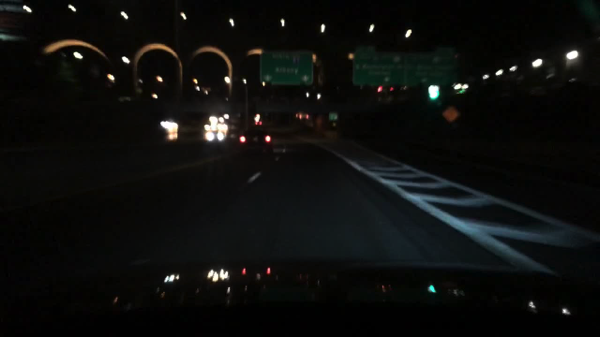car: (239, 125, 274, 152), (205, 131, 227, 144), (201, 123, 220, 132)
traffic sign: (352, 46, 405, 88), (408, 48, 457, 88), (259, 50, 312, 86), (442, 105, 460, 125), (328, 111, 340, 121)
